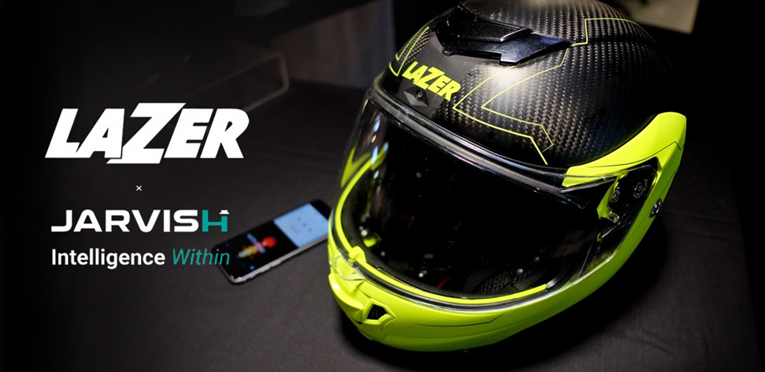helmet: (327, 15, 685, 342)
